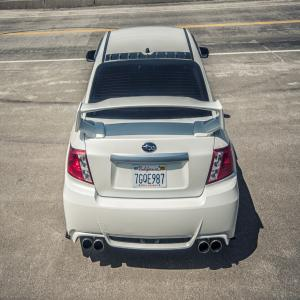Vehicle-registration-plate: (132, 165, 168, 188)
